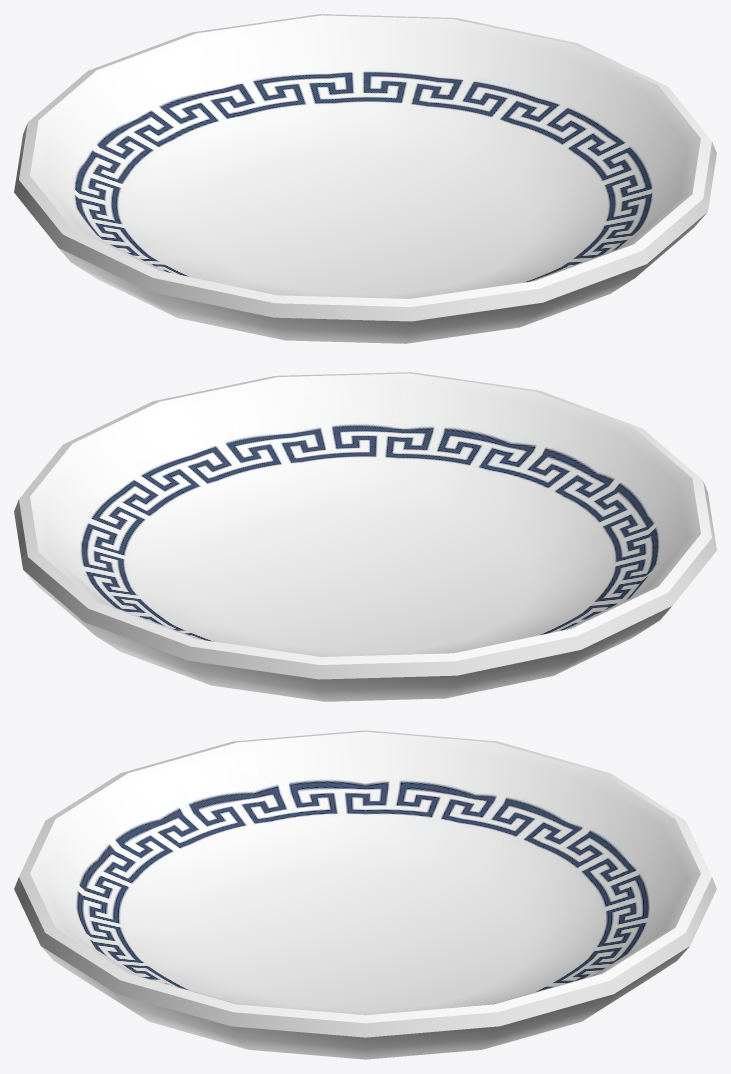
Rendered from Plato.fbx.
3 renders of one model, top to bottom at view 1: azimuth 30°, elevation 25°; view 2: azimuth 150°, elevation 25°; view 3: azimuth 270°, elevation 25°, orthographic.
Visible parts, largest first — view 1: Plato; view 2: Plato; view 3: Plato.
Part boxes in pixels (x1=…): Plato: x1=14, y1=14, x2=716, y2=343; Plato: x1=14, y1=372, x2=716, y2=701; Plato: x1=14, y1=730, x2=716, y2=1059.
Size of the model in its own units: 250 by 41.94 by 250.
